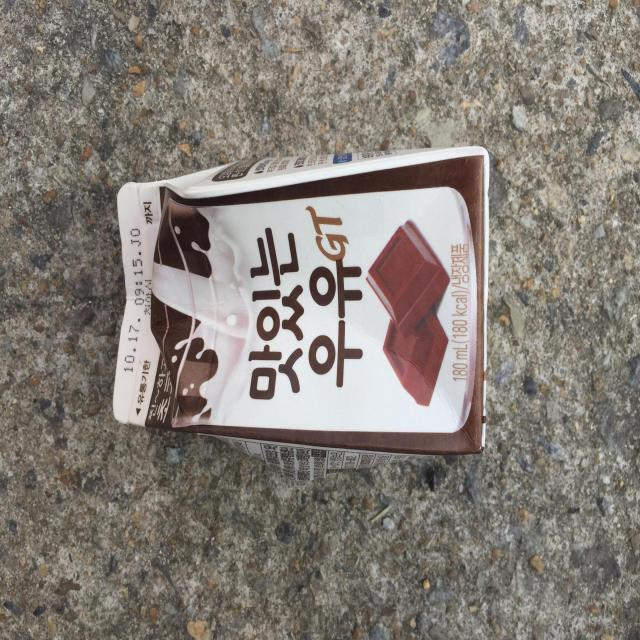paperpack: (113, 146, 490, 480)
